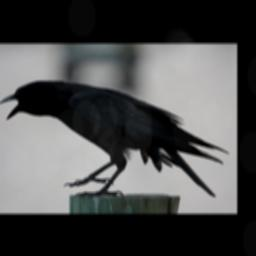Crow: (0, 80, 230, 199)
